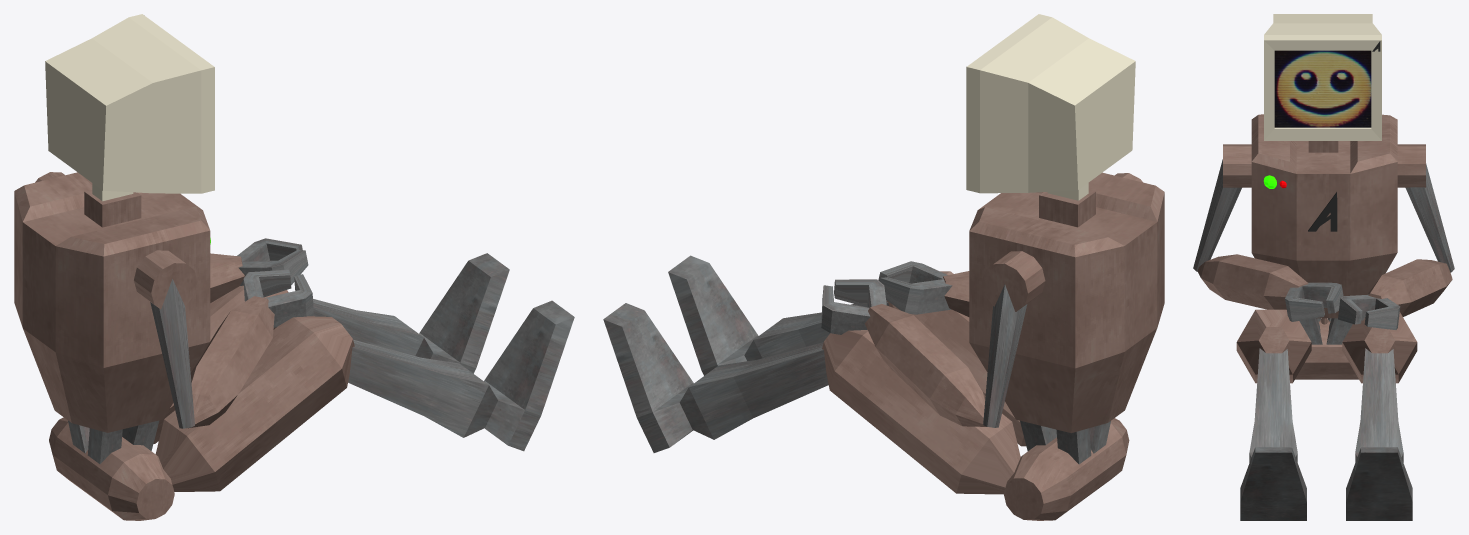
The model's file is sentinel-sit.fbx.
The picture shows the model from 3 angles, left to right: view 1: azimuth 30°, elevation 25°; view 2: azimuth 150°, elevation 25°; view 3: azimuth 270°, elevation 25°; orthographic projection. The views are drawn at different scales.
Visible parts, largest first — view 1: Cube, Cube.003, Cylinder.008, Cube.008, Cube.007, Cylinder, Cylinder.006, Cylinder.007, Cylinder.002, Cube.006, Cube.005, Cube.001 (+2 smaller); view 2: Cube, Cube.003, Cube.007, Cylinder.004, Cube.008, Cylinder.005, Cylinder, Cylinder.003, Cube.006, Cube.005, Cylinder.002, Cylinder.008 (+2 smaller); view 3: Cube, Cube.008, Cube.007, Plane, Cube.003, Cylinder.006, Cylinder.008, Cylinder.005, Cylinder.004, Cylinder.002, Cube.006, Cylinder (+5 smaller).
Part boxes in pixels (x1,y1,x2,y2): Cube: (14, 172, 210, 432); Cube.003: (45, 14, 214, 201); Cylinder.008: (155, 316, 354, 491); Cube.008: (348, 300, 574, 451); Cube.007: (288, 253, 509, 373); Cylinder: (49, 417, 174, 520); Cylinder.006: (187, 296, 274, 428); Cylinder.007: (150, 279, 194, 428); Cylinder.002: (35, 172, 197, 309); Cube.006: (243, 269, 313, 327); Cube.005: (237, 238, 308, 285); Cube.001: (68, 420, 159, 463); Cube: (969, 172, 1164, 433); Cube.003: (966, 14, 1135, 200); Cube.007: (603, 303, 828, 452); Cylinder.004: (822, 330, 1020, 494); Cube.008: (668, 255, 888, 375); Cylinder.005: (864, 304, 986, 426); Cylinder: (1003, 418, 1129, 520); Cylinder.003: (983, 284, 1027, 427); Cube.006: (878, 261, 952, 314); Cube.005: (821, 279, 886, 334); Cylinder.002: (981, 173, 1142, 311); Cylinder.008: (886, 271, 1026, 446); Cube: (1251, 114, 1397, 318); Cube.008: (1240, 348, 1306, 520); Cube.007: (1346, 348, 1412, 520); Plane: (1274, 50, 1371, 127); Cube.003: (1264, 14, 1381, 140); Cylinder.006: (1197, 254, 1308, 309); Cylinder.008: (1236, 309, 1311, 383); Cylinder.005: (1368, 259, 1452, 316); Cylinder.004: (1342, 312, 1417, 383); Cylinder.002: (1223, 144, 1425, 187); Cube.006: (1285, 282, 1343, 321); Cylinder: (1295, 319, 1358, 379).
Bounding box in the file's own units: 1240 × 1069 × 698.
8 materials, 3 textured.
